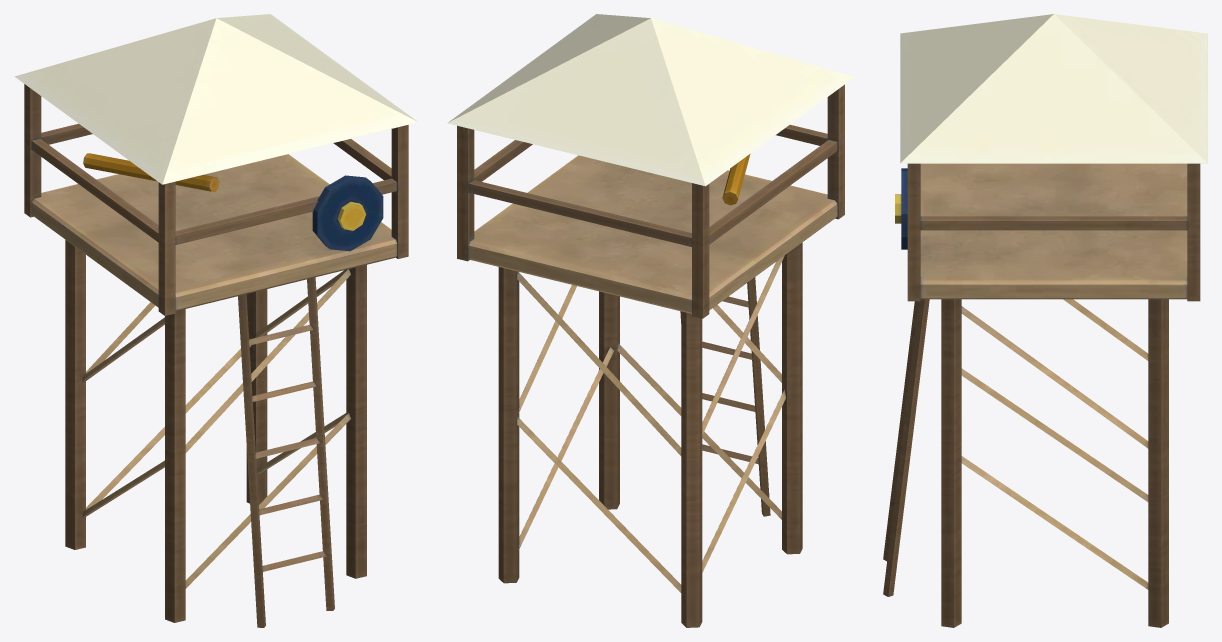
Rendered from watchtower-2-age1.glb.
3 renders of one model, left to right at view 1: azimuth 30°, elevation 25°; view 2: azimuth 150°, elevation 25°; view 3: azimuth 270°, elevation 25°, orthographic. The views are drawn at different scales.
Visible parts, largest first — view 1: watchtower-2-age1; view 2: watchtower-2-age1; view 3: watchtower-2-age1.
Boxes of the visible parts, bbox=[...] form: watchtower-2-age1: bbox=[14, 14, 417, 627]; watchtower-2-age1: bbox=[447, 14, 854, 627]; watchtower-2-age1: bbox=[883, 14, 1207, 627].
Bounding box in the file's own units: 0.594 × 1.2 × 0.6269.
1 material, 1 textured.
